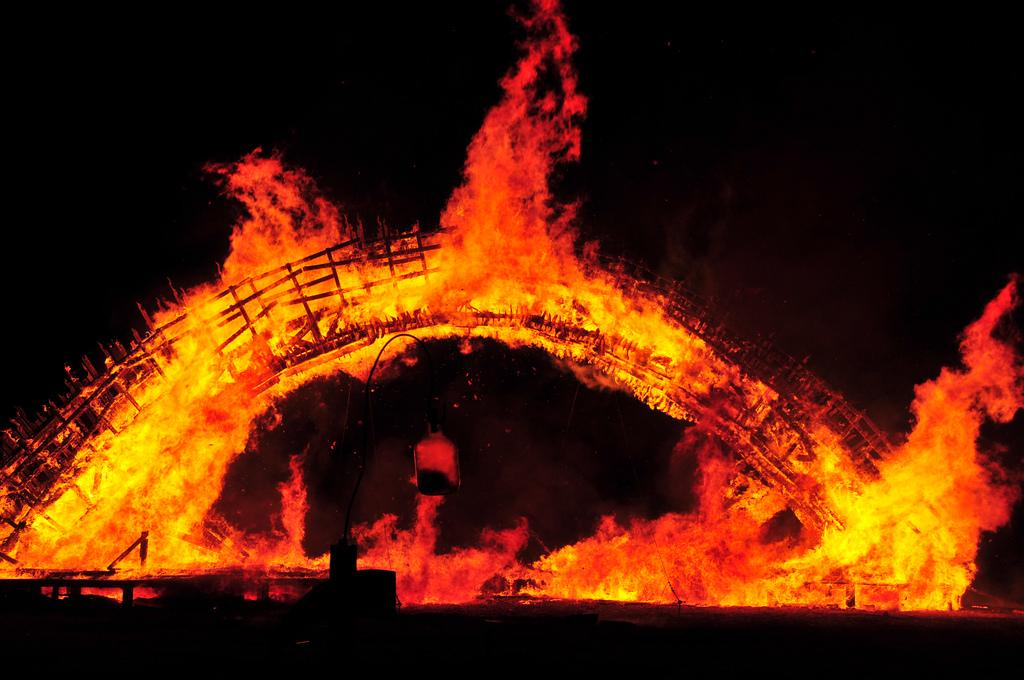fire: (23, 375, 247, 572), (267, 233, 625, 355), (738, 442, 965, 602)
